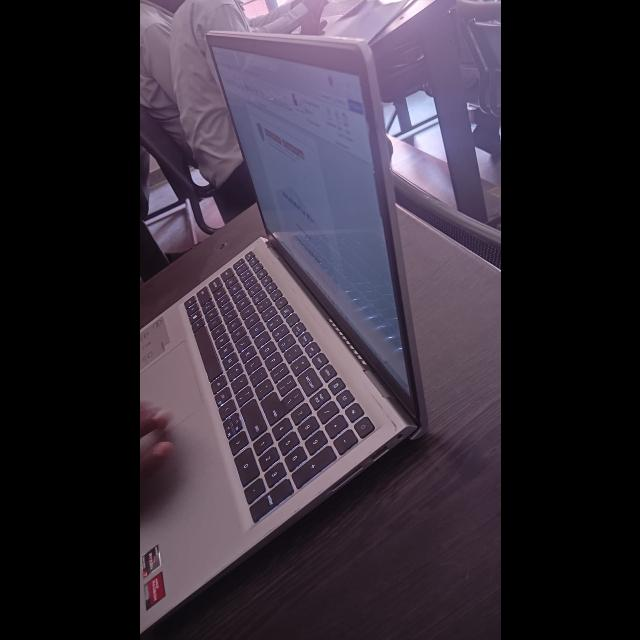laptop: (174, 38, 501, 514)
